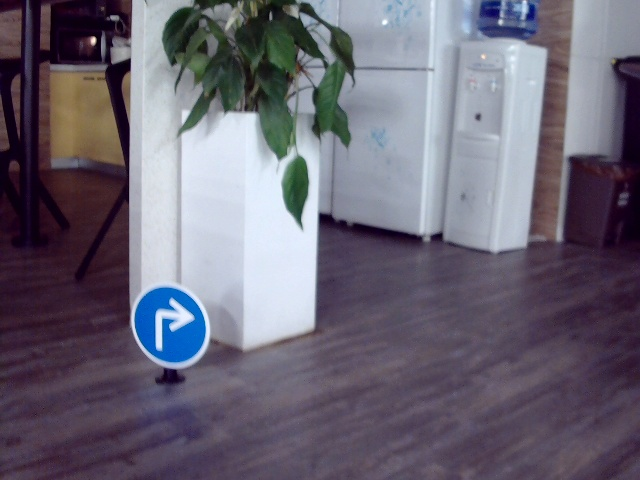turn_right: (149, 294, 190, 352)
